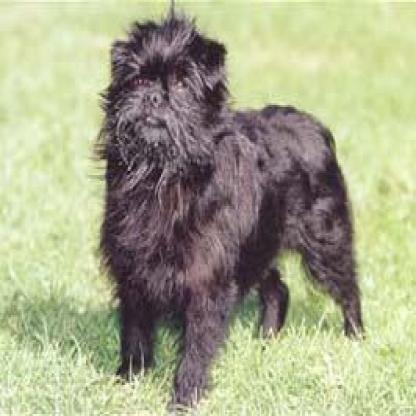affenpinscher: (84, 2, 367, 412)
